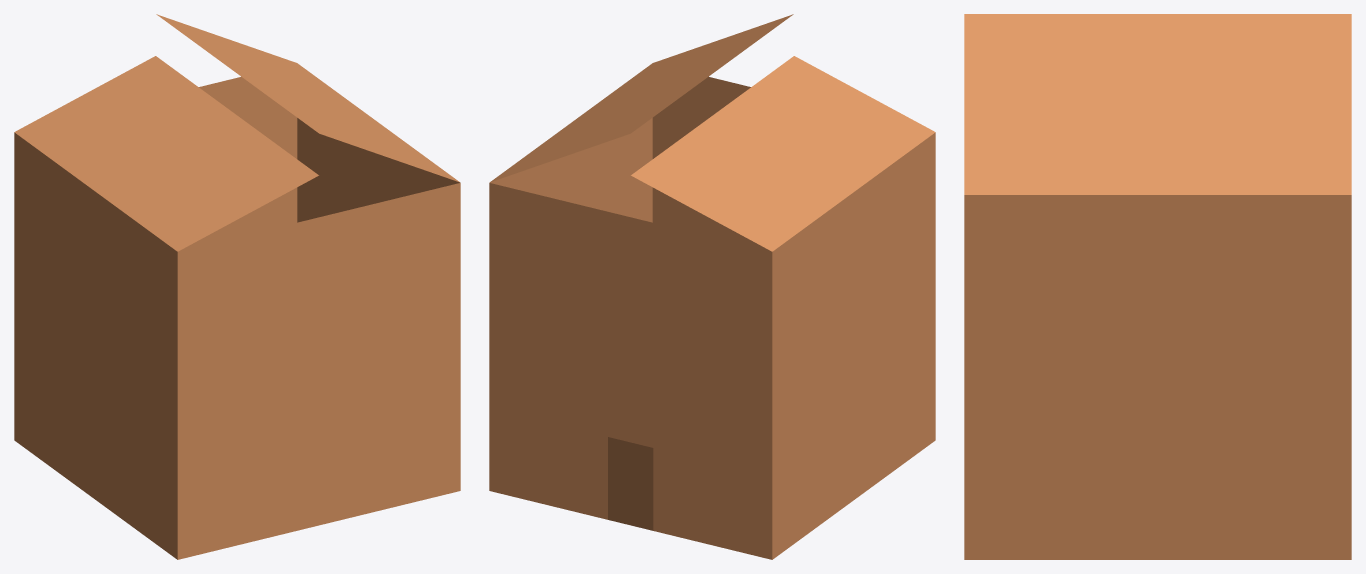
The model's file is cardboardBoxClosed.glb.
3 views of the same model, side by side, from view 1: azimuth 30°, elevation 25°; view 2: azimuth 150°, elevation 25°; view 3: azimuth 270°, elevation 25° (orthographic). The views are drawn at different scales.
Visible parts, largest first — view 1: cardboardBoxClosed; view 2: cardboardBoxClosed; view 3: cardboardBoxClosed.
Boxes of the visible parts, bbox=[...] form: cardboardBoxClosed: bbox=[14, 14, 460, 559]; cardboardBoxClosed: bbox=[489, 14, 935, 559]; cardboardBoxClosed: bbox=[964, 14, 1351, 559].
Bounding box in the file's own units: 0.4565 × 0.6036 × 0.4565.
